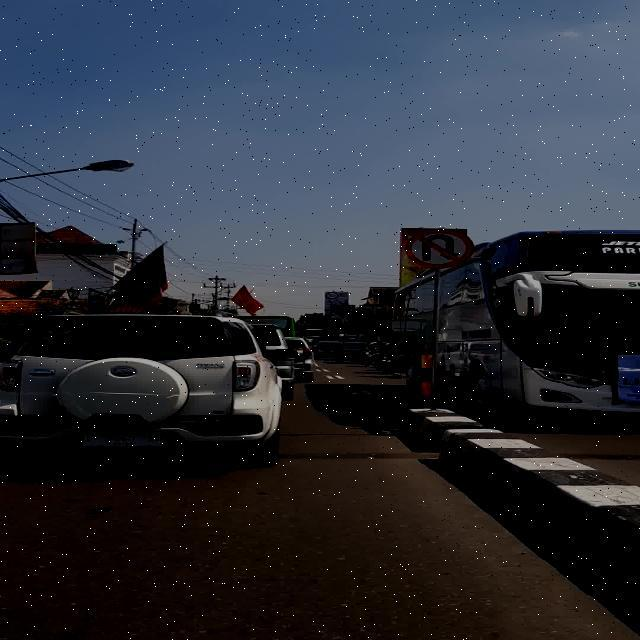Dilarang Putar Balik: (406, 230, 474, 268)
